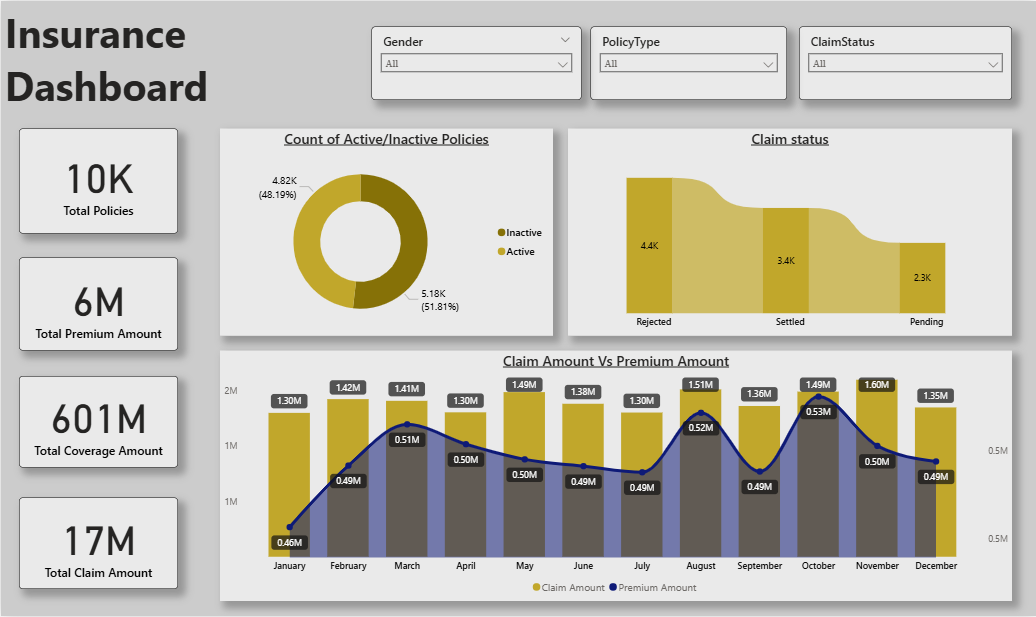

What the dashboard file says about the page in this screenshot:
{"tool":"powerbi","page":{"name":"Overview","canvas":[1380,820],"ordinal":0},"visuals":[{"type":"slicer","fields":{"Values":["InsuranceData.ClaimStatus"]},"box":[1064,34,284,98],"z":0},{"type":"slicer","fields":{"Values":["InsuranceData.PolicyType"]},"box":[786,34,262,98],"z":1000},{"type":"textbox","box":[0,0,494.2,156.5],"z":2000},{"type":"slicer","fields":{"Values":["InsuranceData.Gender"]},"box":[494,34,280,98],"z":3000},{"type":"card","title":"Total Policies","fields":{"Values":["Count(InsuranceData.PolicyNumber)"]},"box":[24,170,212,140],"z":4000},{"type":"card","title":"Total Policies","fields":{"Values":["Sum(InsuranceData.PremiumAmount)"]},"box":[24,342,212,124],"z":5000},{"type":"card","title":"Total Policies","fields":{"Values":["Sum(InsuranceData.CoverageAmount)"]},"box":[24,500,212,122],"z":6000},{"type":"card","title":"Total Policies","fields":{"Values":["Sum(InsuranceData.ClaimAmount)"]},"box":[24,662,212,122],"z":7000},{"type":"donutChart","title":"Count of Active/Inactive Policies","fields":{"Category":["InsuranceData.Custom"],"Y":["CountNonNull(InsuranceData.Custom)"]},"box":[292,170,444,276],"z":11000},{"type":"lineClusteredColumnComboChart","title":"Claim Amount Vs Premium Amount","fields":{"Category":["InsuranceData.PolicyEndDate.Variation.Date Hierarchy.Month"],"Y":["Sum(InsuranceData.ClaimAmount)"],"Y2":["Sum(InsuranceData.PremiumAmount)"]},"box":[292,466,1056,334],"z":11001},{"type":"ribbonChart","title":"Claim status","fields":{"Category":["InsuranceData.ClaimStatus"],"Y":["CountNonNull(InsuranceData.ClaimStatus)"]},"box":[756,170,592,276],"z":11002}]}

Visuals, with their boxes in screenshot pixels (x1, y1, x2, y2), scaled from the page's 1380x820 canvas onto the 1036x617 screenshot:
slicer - InsuranceData.ClaimStatus: 799, 26, 1012, 99
slicer - InsuranceData.PolicyType: 590, 26, 787, 99
textbox: 0, 0, 371, 118
slicer - InsuranceData.Gender: 371, 26, 581, 99
"Total Policies" card: 18, 128, 177, 233
"Total Policies" card: 18, 257, 177, 351
"Total Policies" card: 18, 376, 177, 468
"Total Policies" card: 18, 498, 177, 590
"Count of Active/Inactive Policies" donutChart: 219, 128, 553, 336
"Claim Amount Vs Premium Amount" lineClusteredColumnComboChart: 219, 351, 1012, 602
"Claim status" ribbonChart: 568, 128, 1012, 336
